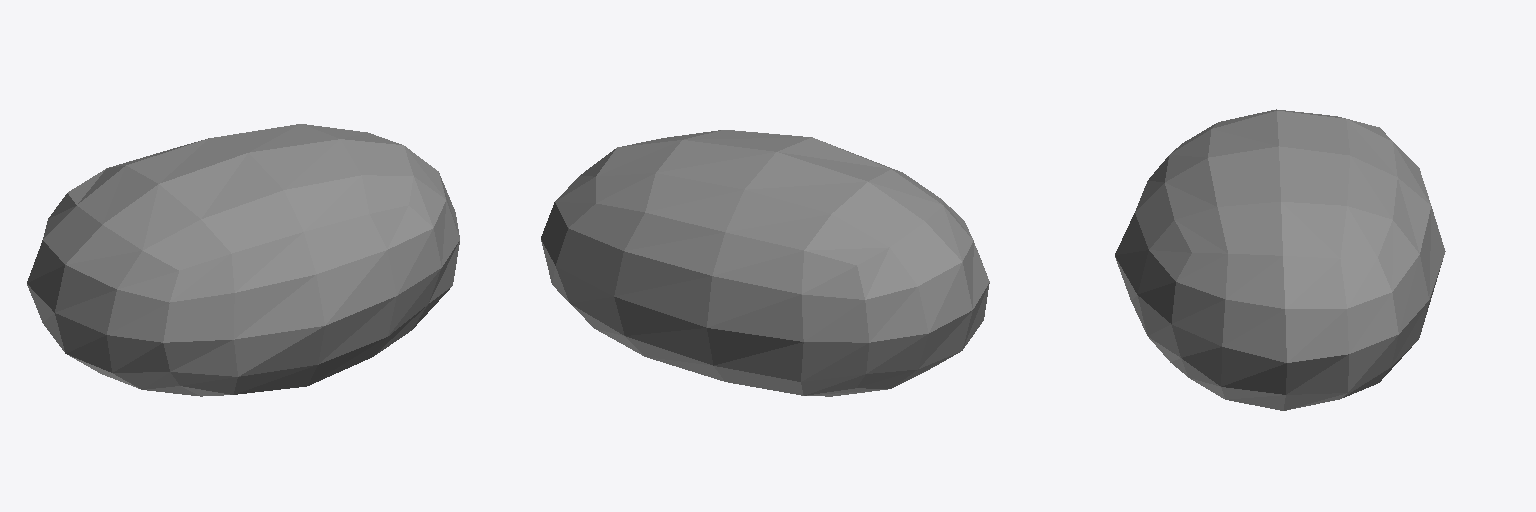
The model's file is asteroid.obj.
3 renders of one model, left to right at view 1: azimuth 30°, elevation 25°; view 2: azimuth 150°, elevation 25°; view 3: azimuth 270°, elevation 25°, orthographic.
Parts seen in each view (by area): view 1: Box001; view 2: Box001; view 3: Box001.
Boxes of the visible parts, x1,y1,x2,y2 form: Box001: [27, 124, 459, 396]; Box001: [541, 130, 989, 396]; Box001: [1115, 109, 1445, 410].
Size of the model in its own units: 38.65 by 19.22 by 27.28.